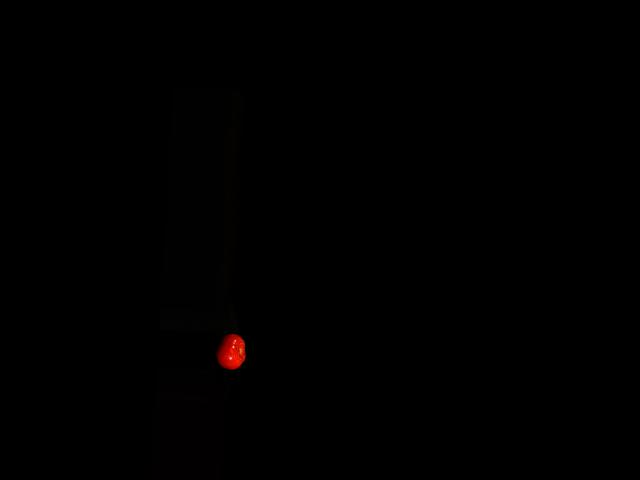tomato: (214, 332, 247, 371)
